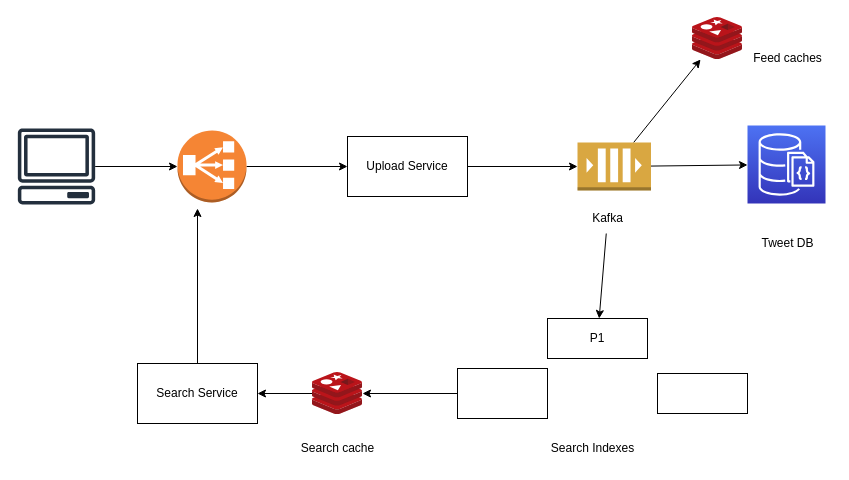
Some shapes in this 849 by 480 pixel diagram are drawn without their labels. The shapes that lost their labels are listed below. From the top down, each one's centre as x and y in pixels, then its label:
At [502,393]: "P3".
At [702,393]: "P2".
